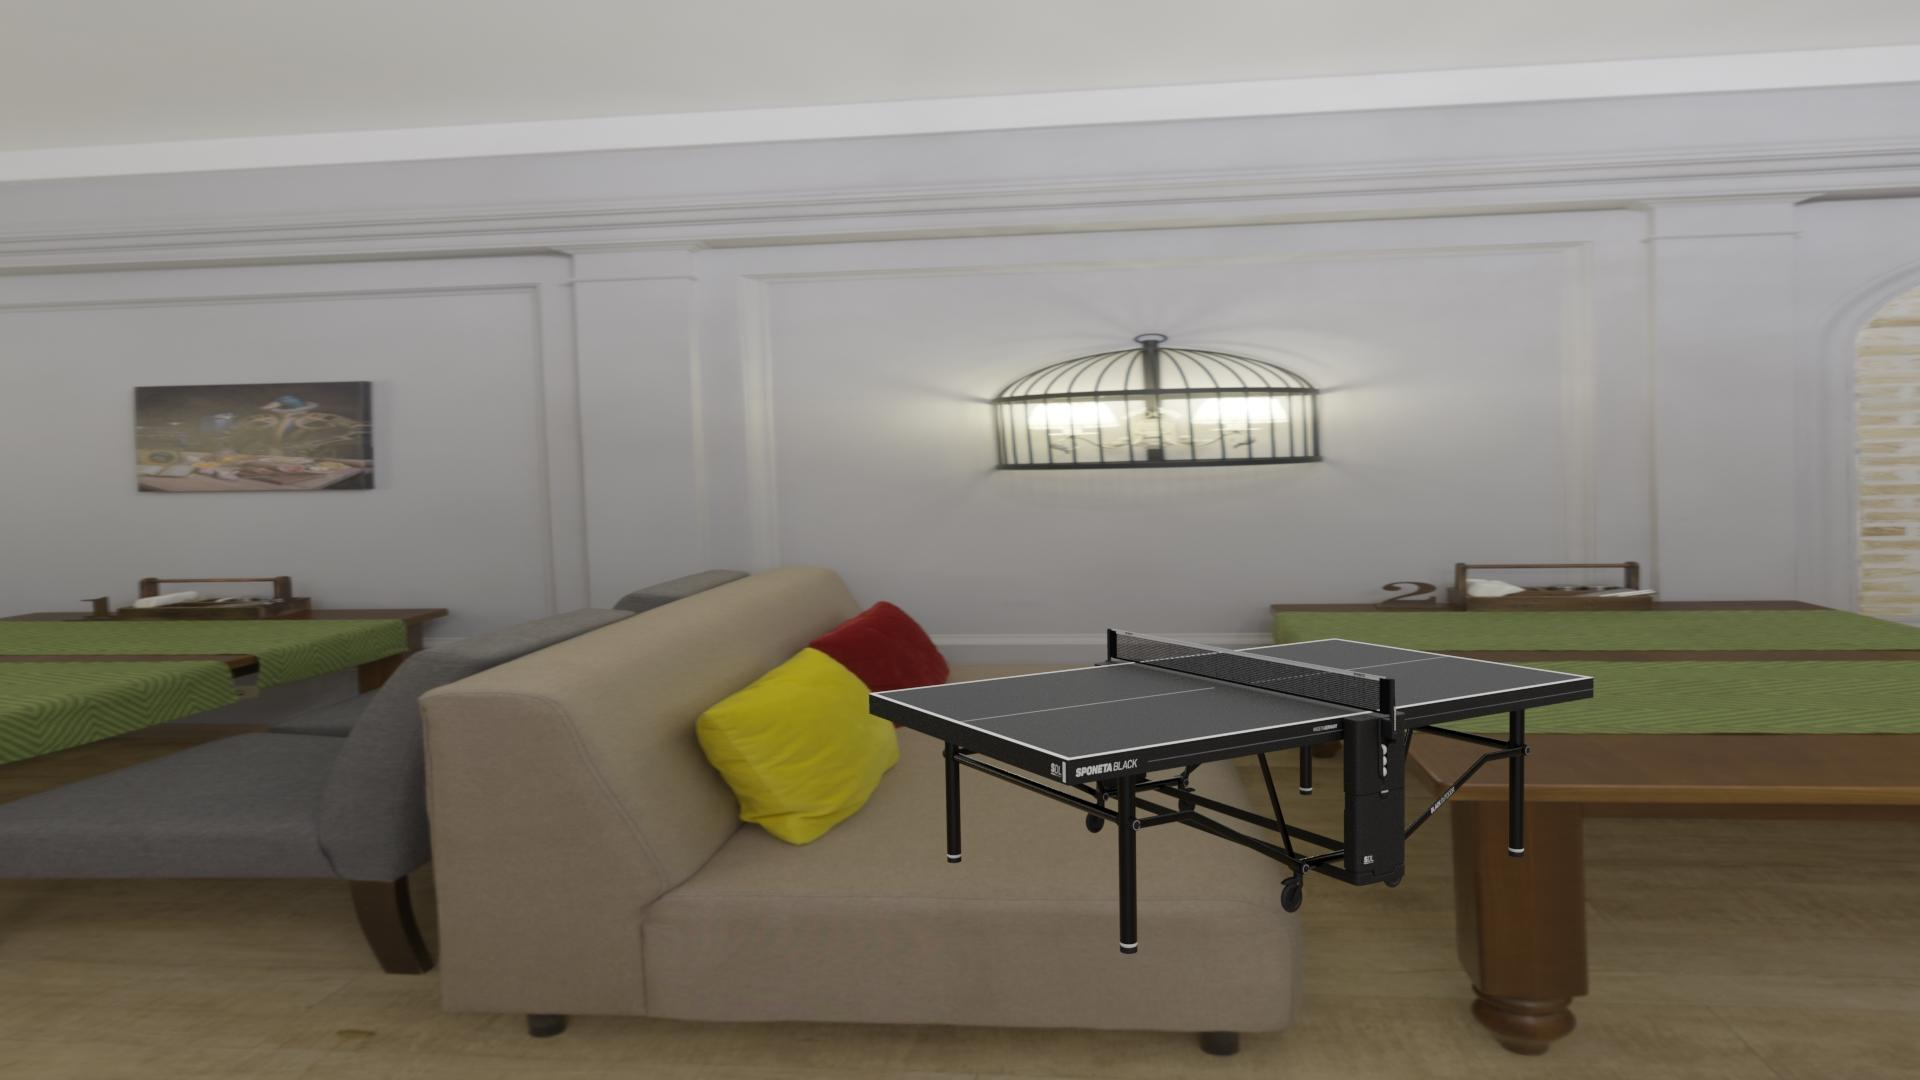table: (874, 640, 1586, 758)
